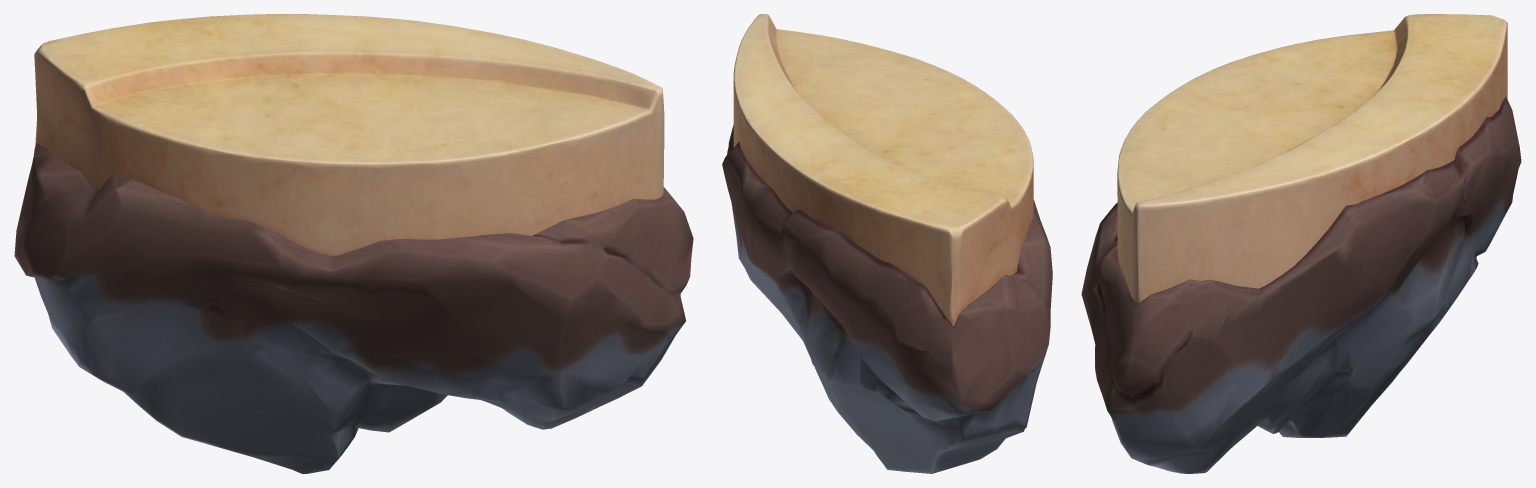
The model's file is sky_rock_02a2.glb.
3 views of the same model, side by side, from view 1: azimuth 30°, elevation 25°; view 2: azimuth 150°, elevation 25°; view 3: azimuth 270°, elevation 25° (orthographic). The views are drawn at different scales.
Parts seen in each view (by area): view 1: rock_02a2; view 2: rock_02a2; view 3: rock_02a2.
Boxes of the visible parts, x1,y1,x2,y2 form: rock_02a2: (14, 14, 693, 473); rock_02a2: (722, 14, 1052, 473); rock_02a2: (1081, 14, 1521, 473).
Bounding box in the file's own units: 34.4 × 25.49 × 28.99.
1 material, 1 textured.
